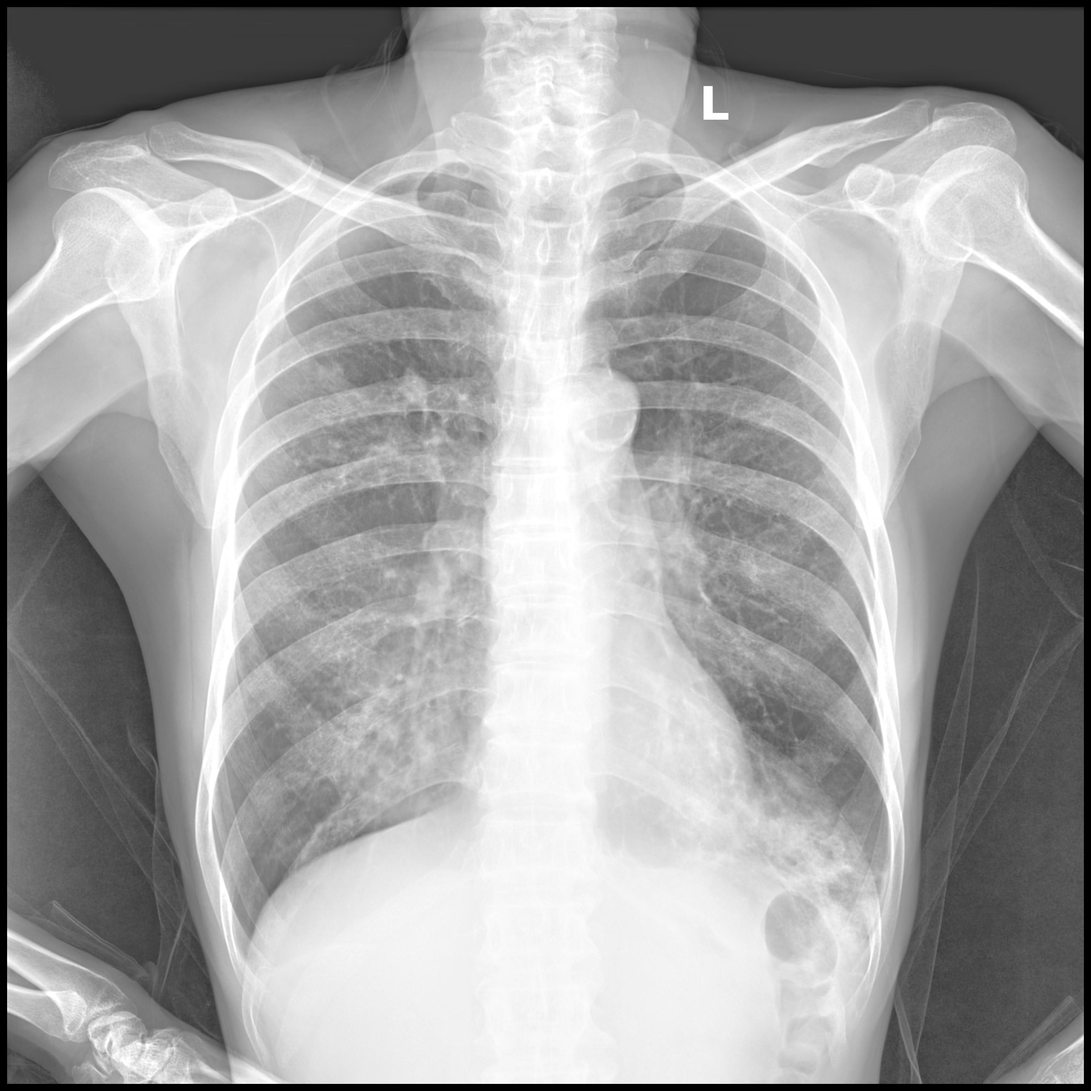Pleural thickening: (845, 919, 883, 956)
Pulmonary fibrosis: (725, 776, 873, 908)
